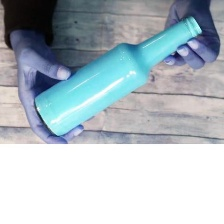bottle: (30, 13, 202, 138)
